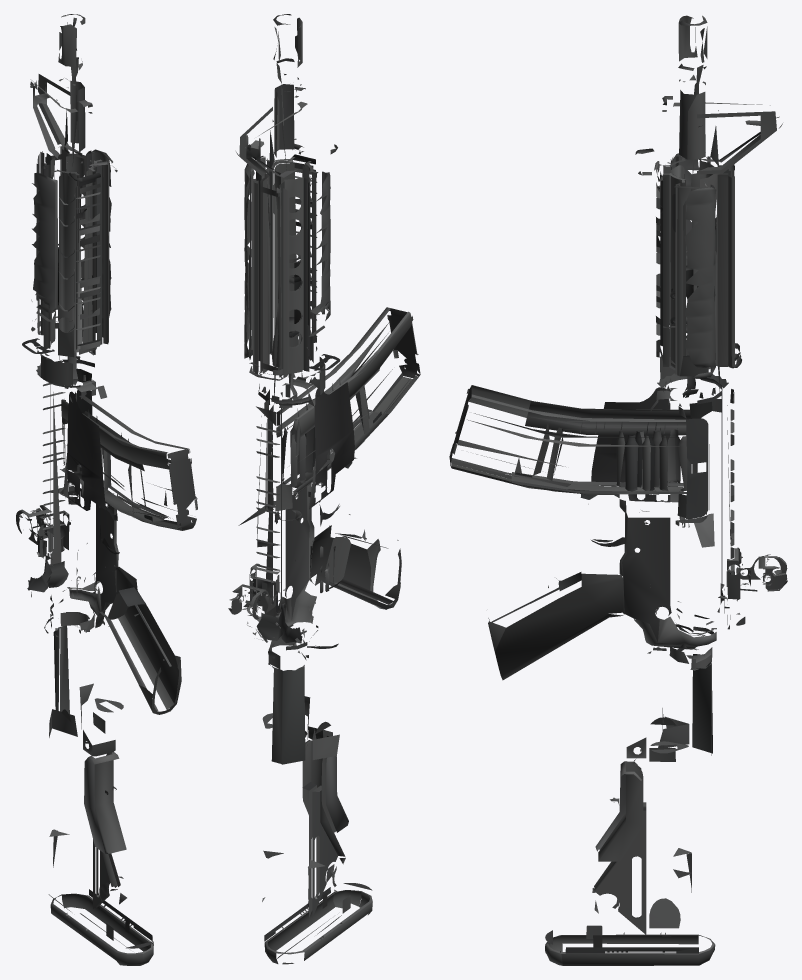
File: M4A4__Light_Pistol.fbx
The picture shows the model from 3 angles, left to right: view 1: azimuth 30°, elevation 25°; view 2: azimuth 150°, elevation 25°; view 3: azimuth 270°, elevation 25°; orthographic projection. The views are drawn at different scales.
Visible parts, largest first — view 1: asset_M4A4.001; view 2: asset_M4A4.001; view 3: asset_M4A4.001.
Boxes of the visible parts, x1,y1,x2,y2 form: asset_M4A4.001: (16, 14, 197, 965); asset_M4A4.001: (228, 14, 420, 964); asset_M4A4.001: (449, 15, 787, 965).
Bounding box in the file's own units: 0.0452 × 0.444 × 0.1447.
